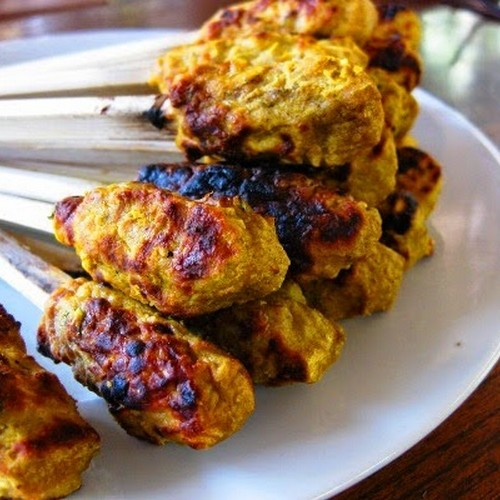sate languan: (54, 187, 294, 314), (165, 69, 386, 169)
